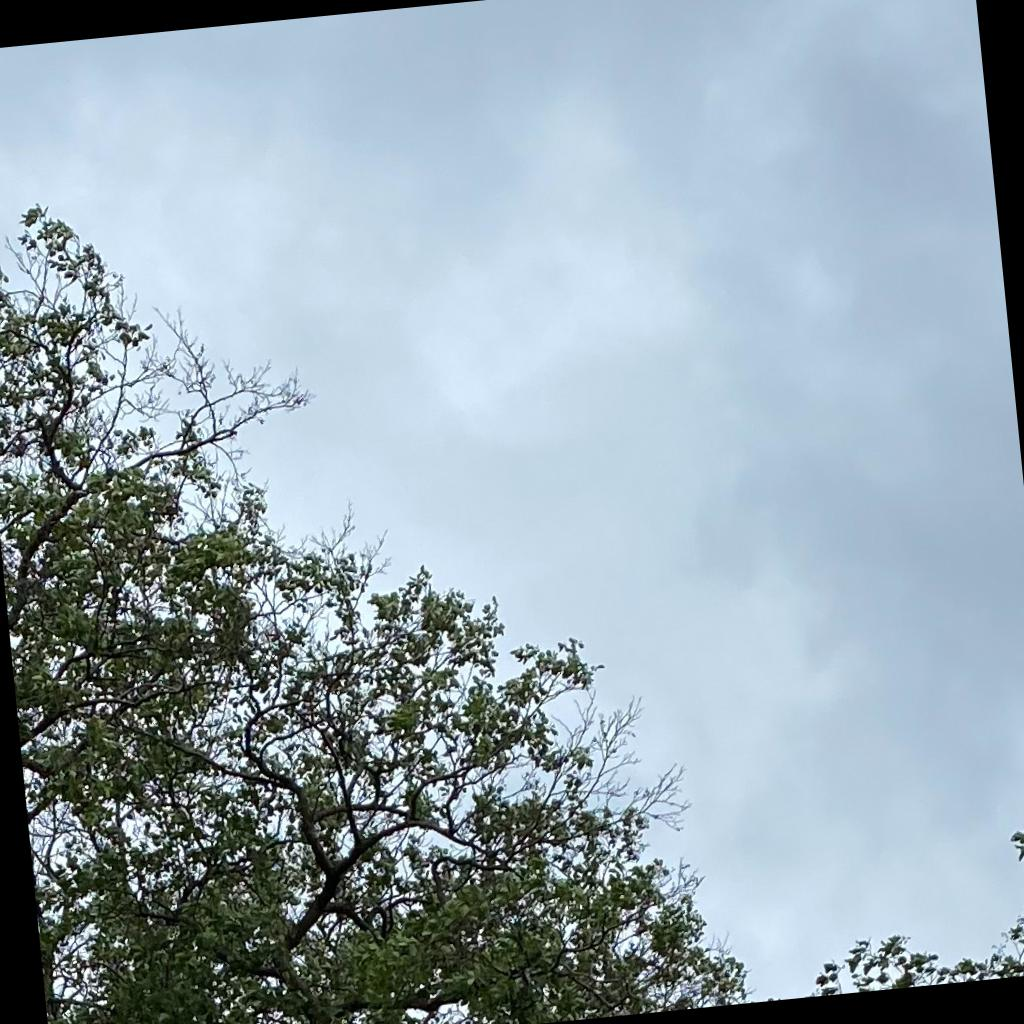tree: (1, 201, 752, 1024), (809, 831, 1024, 997)
